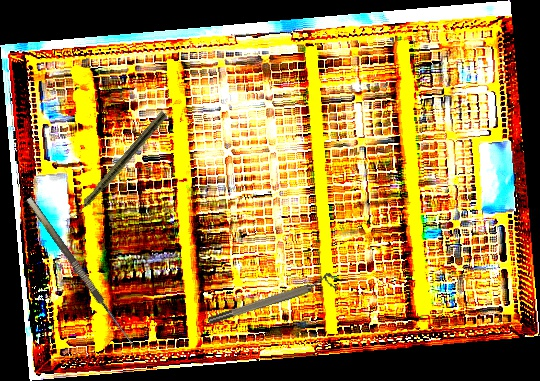Fixation Ring: (204, 271, 339, 327)
Handpiece: (63, 109, 169, 228)
Hook Surgical: (25, 190, 146, 352)
